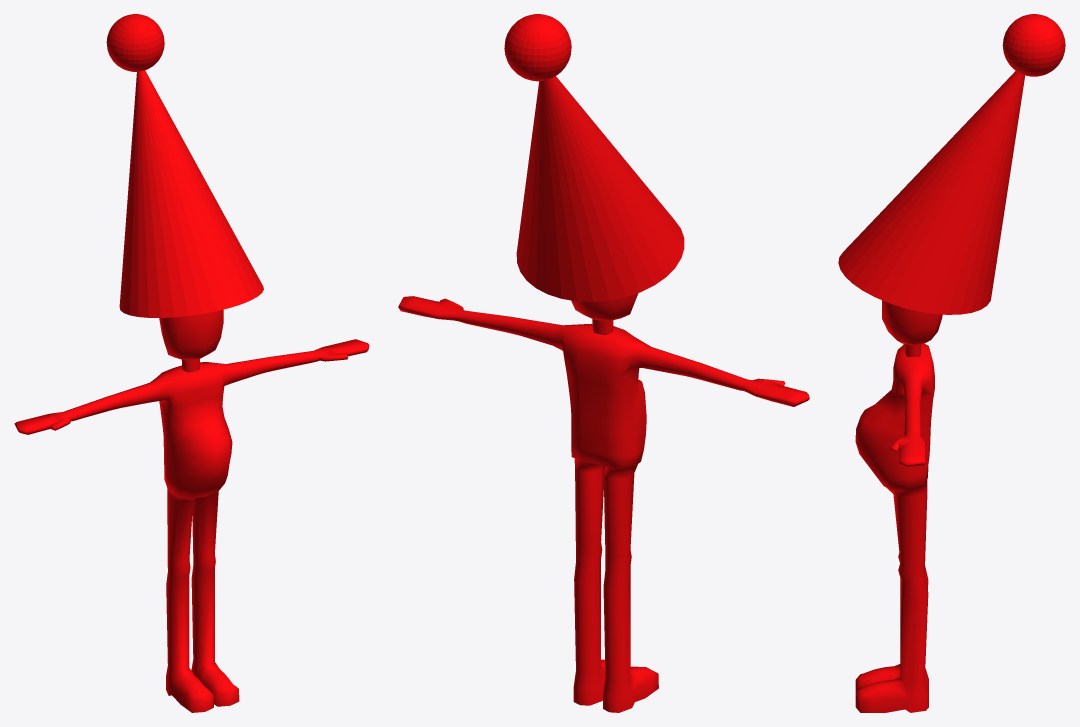
The model's file is untitled meteryal red 1.fbx.
3 renders of one model, left to right at view 1: azimuth 30°, elevation 25°; view 2: azimuth 150°, elevation 25°; view 3: azimuth 270°, elevation 25°, orthographic. The views are drawn at different scales.
Visible parts, largest first — view 1: Cube.001; view 2: Cube.001; view 3: Cube.001.
Boxes of the visible parts, x1,y1,x2,y2 form: Cube.001: (14,14,369,712); Cube.001: (398,14,809,712); Cube.001: (838,14,1065,712).
Size of the model in its own units: 186 by 320 by 96.44.
